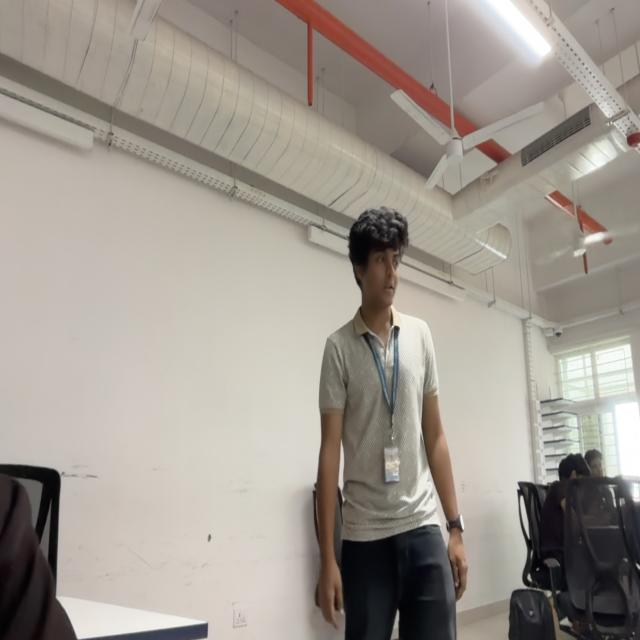kshitij: (348, 208, 410, 308)
